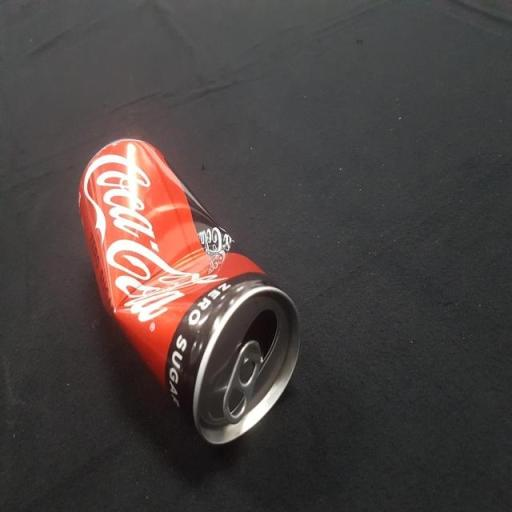metal: (63, 100, 312, 470)
